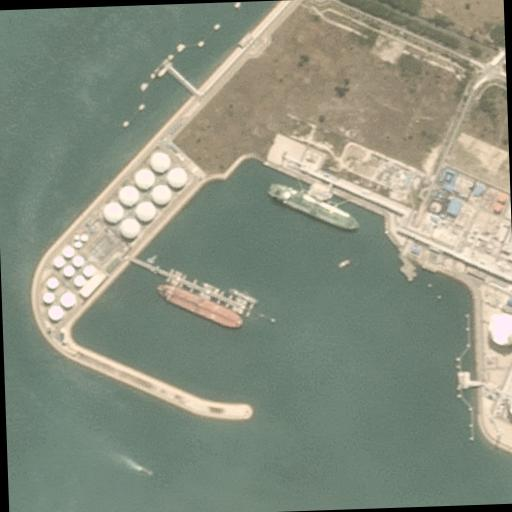ship: (266, 178, 360, 232), (154, 280, 243, 332), (137, 462, 154, 476)
